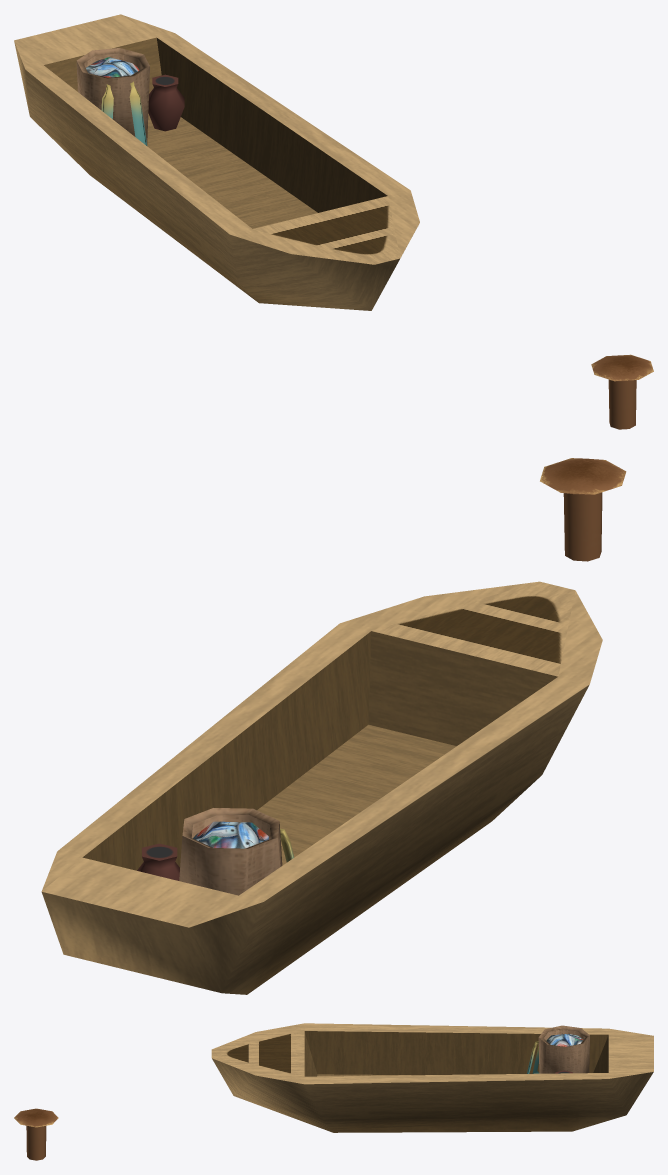
File: norope_boat.fbx
3 renders of one model, top to bottom at view 1: azimuth 30°, elevation 25°; view 2: azimuth 150°, elevation 25°; view 3: azimuth 270°, elevation 25°, orthographic. The views are drawn at different scales.
Parts seen in each view (by area): view 1: allboat; view 2: allboat; view 3: allboat.
Boxes of the visible parts, box(x1,y1,x2,y2) form: allboat: box(14, 14, 653, 429); allboat: box(41, 458, 626, 994); allboat: box(14, 1023, 653, 1160).
Size of the model in its own units: 79.31 by 38.21 by 280.
1 material, 1 textured.
